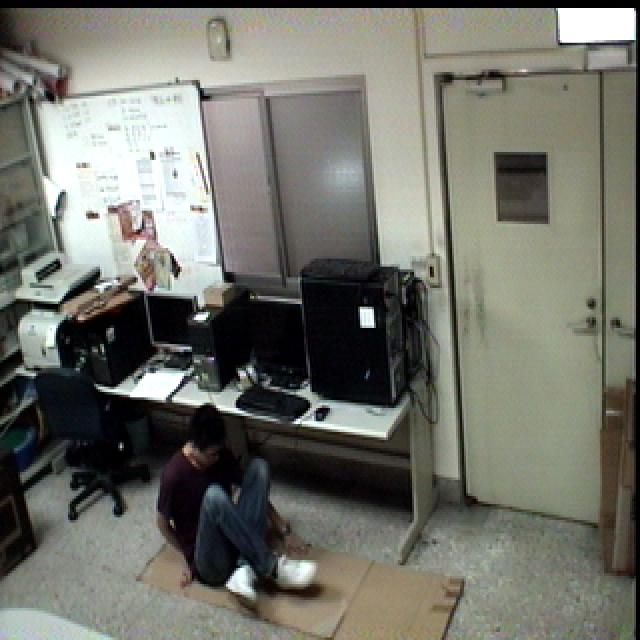sit: (151, 395, 325, 620)
